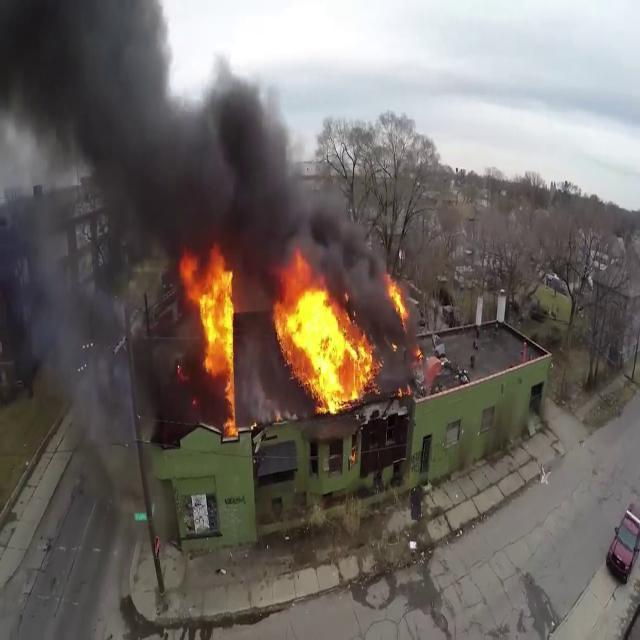Fire: (271, 272, 379, 414), (180, 248, 242, 428), (384, 271, 412, 321)
Smoke: (0, 0, 376, 294)
